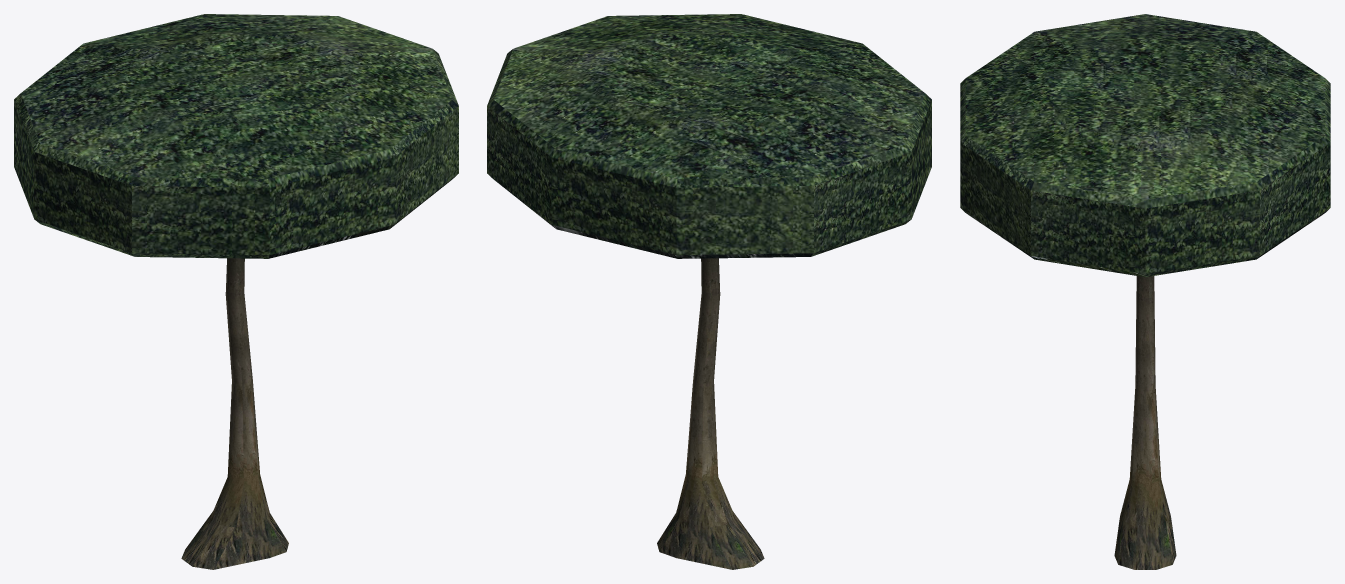
The model's file is cay-sanh-2.glb.
3 views of the same model, side by side, from view 1: azimuth 30°, elevation 25°; view 2: azimuth 150°, elevation 25°; view 3: azimuth 270°, elevation 25° (orthographic). The views are drawn at different scales.
Parts seen in each view (by area): view 1: Cay_Sanh_30_500tr; view 2: Cay_Sanh_30_500tr; view 3: Cay_Sanh_30_500tr.
Part boxes in pixels (x1=…): Cay_Sanh_30_500tr: x1=14, y1=14, x2=458, y2=569; Cay_Sanh_30_500tr: x1=487, y1=14, x2=931, y2=569; Cay_Sanh_30_500tr: x1=960, y1=14, x2=1330, y2=569.
Bounding box in the file's own units: 3.01 × 3.36 × 2.46.
1 material, 1 textured.
